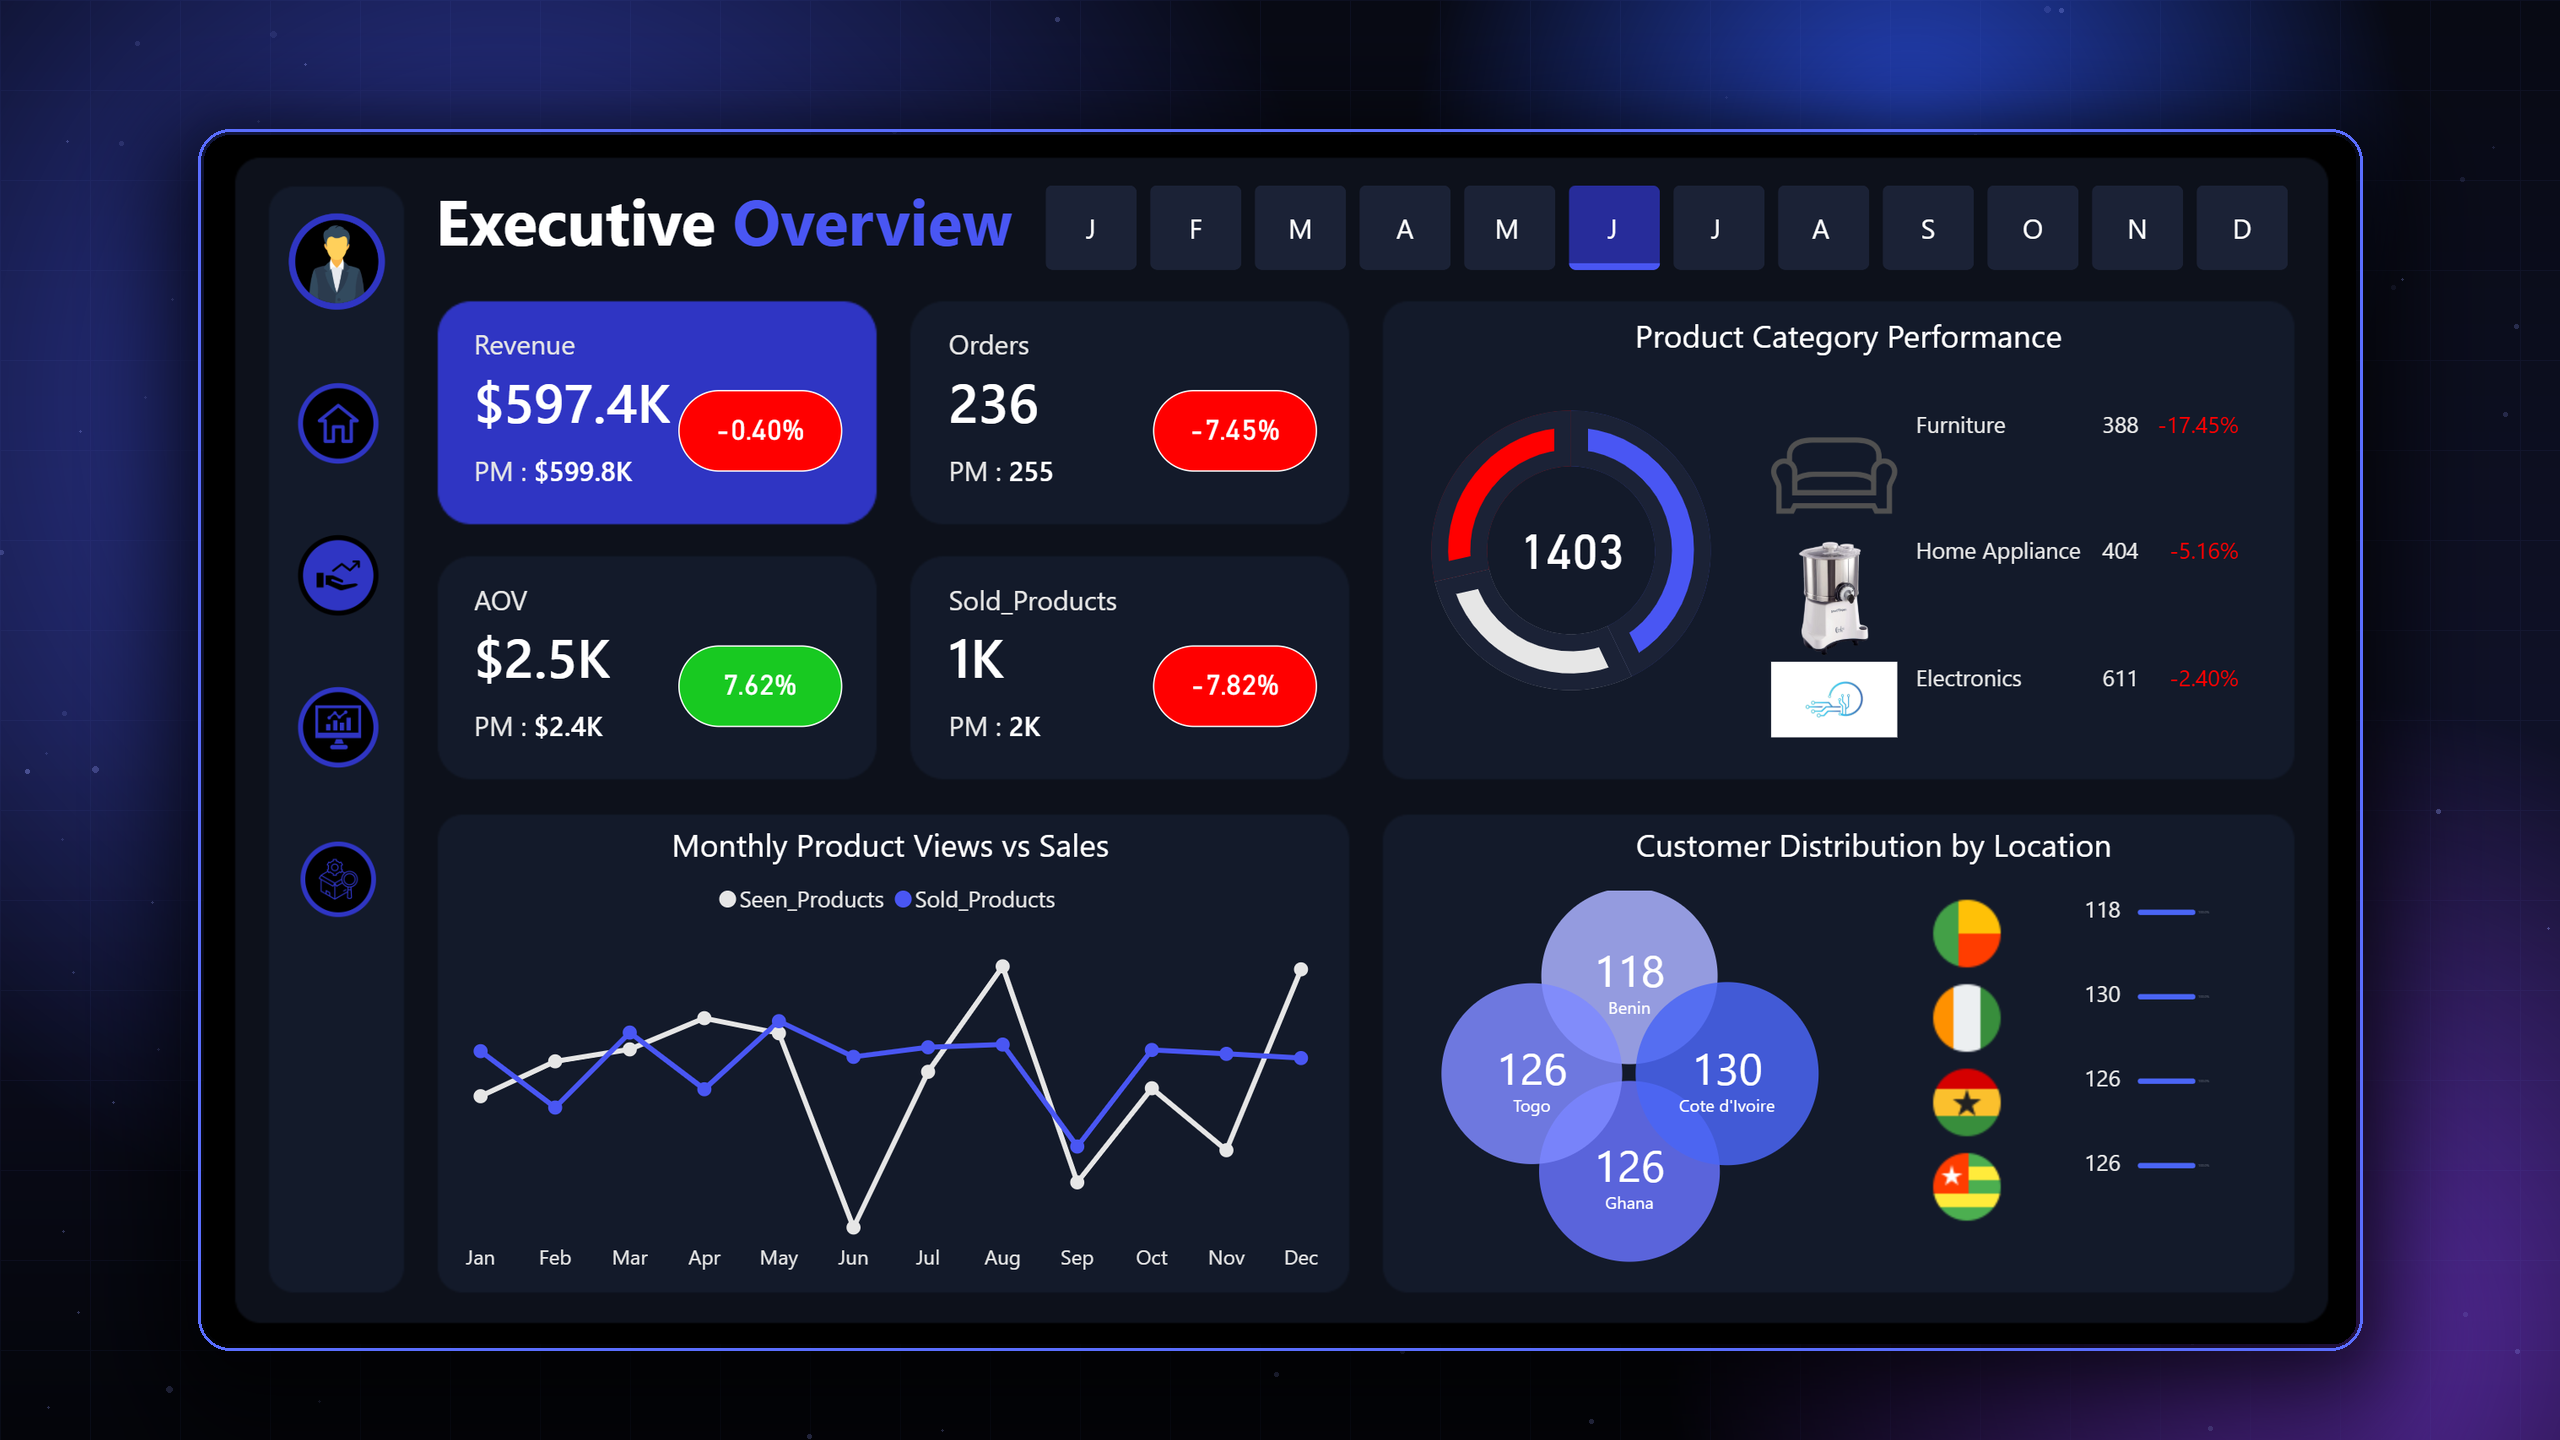

The dashboard page shown, as its layout file describes it:
{"tool":"powerbi","page":{"name":"Executive Overview","canvas":[1280,720],"ordinal":1},"visuals":[{"type":"advancedSlicerVisual","fields":{"Values":["Dim_Calendar.Month Initial"]},"box":[495,26.7,755,60],"z":0},{"type":"cardVisual","fields":{"Data":["DAX.Revenue"]},"box":[132.9,100,300,154.3],"z":1000},{"type":"card","fields":{"Values":["DAX.Revenue_G%"]},"box":[282.9,152.9,97.1,48.6],"z":2000},{"type":"cardVisual","fields":{"Data":["DAX.Orders"]},"box":[414.3,100,300,154.3],"z":3000},{"type":"card","fields":{"Values":["DAX.Orders_G%"]},"box":[564.3,152.9,97.1,48.6],"z":4000},{"type":"cardVisual","fields":{"Data":["DAX.AOV"]},"box":[132.9,251,300,154.3],"z":5000},{"type":"card","fields":{"Values":["DAX.AOV_G%"]},"box":[282.9,304.3,97.1,48.6],"z":6000},{"type":"cardVisual","fields":{"Data":["DAX.Sold_Products"]},"box":[414.3,251.4,300,154.3],"z":7000},{"type":"card","fields":{"Values":["DAX.Sold_Products_G%"]},"box":[564.3,304.3,97.1,48.6],"z":8000},{"type":"lineChart","title":"Monthly Product Views vs Sales","fields":{"Y":["DAX.Seen_Products","DAX.Sold_Products"],"Category":["Dim_Calendar.Month"]},"box":[142.9,408.6,531.4,275.7],"z":9000},{"type":"tableEx","fields":{"Values":["Dim_Product.Product Img","Dim_Product.Category","DAX.Sold_Products","DAX.Sold_Products_G%"]},"box":[918.6,135.7,315.7,260],"z":10000},{"type":"donutChart","fields":{"Category":["Dim_Product.Category"],"Y":["CountNonNull(Dim_Product.ProductID)"]},"box":[695.7,138.6,230,217.1],"z":11000},{"type":"card","fields":{"Values":["DAX.Sold_Products"]},"box":[757.1,212.9,108.6,67.1],"z":12000},{"type":"textbox","box":[838.6,103,274.3,38.6],"z":13000},{"type":"htmlContent443BE3AD55E043BF878BED274D3A6855","fields":{"content":["DAX.CustomerBubbles"]},"box":[695.7,443.2,299.1,277.2],"z":14000},{"type":"tableEx","fields":{"Values":["Dim_Customer.Country Flag","DAX.Customers","DAX.Rounded Bar Chart"]},"box":[1010,421.3,223.7,279.9],"z":15000},{"type":"textbox","box":[838.6,404,304.3,38.6],"z":16000},{"type":"textbox","box":[133.3,21.7,361.7,68.3],"z":17000},{"type":"image","box":[45.2,41.7,70.2,70.2],"z":19000},{"type":"image","box":[51.2,322.9,59.5,59.5],"z":21000},{"type":"image","box":[51.2,232.7,59.5,59.5],"z":23000},{"type":"image","box":[51.2,413.1,59.5,59.5],"z":24000},{"type":"image","box":[51.2,142.6,59.5,59.5],"z":27000}]}

Visuals, with their boxes in screenshot pixels (x1, y1, x2, y2), scaled from the page's 1280x720 canvas onto the 2560x1440 screenshot:
advancedSlicerVisual - Dim_Calendar.Month Initial: crop(990, 53, 2500, 173)
cardVisual - DAX.Revenue: crop(266, 200, 866, 509)
card - DAX.Revenue_G%: crop(566, 306, 760, 403)
cardVisual - DAX.Orders: crop(829, 200, 1429, 509)
card - DAX.Orders_G%: crop(1129, 306, 1323, 403)
cardVisual - DAX.AOV: crop(266, 502, 866, 811)
card - DAX.AOV_G%: crop(566, 609, 760, 706)
cardVisual - DAX.Sold_Products: crop(829, 503, 1429, 811)
card - DAX.Sold_Products_G%: crop(1129, 609, 1323, 706)
"Monthly Product Views vs Sales" lineChart: crop(286, 817, 1349, 1369)
tableEx - Dim_Product.Product Img x Dim_Product.Category: crop(1837, 271, 2469, 791)
donutChart - Dim_Product.Category x CountNonNull(Dim_Product.ProductID): crop(1391, 277, 1851, 711)
card - DAX.Sold_Products: crop(1514, 426, 1731, 560)
textbox: crop(1677, 206, 2226, 283)
htmlContent443BE3AD55E043BF878BED274D3A6855 - DAX.CustomerBubbles: crop(1391, 886, 1990, 1439)
tableEx - Dim_Customer.Country Flag x DAX.Customers: crop(2020, 843, 2467, 1402)
textbox: crop(1677, 808, 2286, 885)
textbox: crop(267, 43, 990, 180)
image: crop(90, 83, 231, 224)
image: crop(102, 646, 221, 765)
image: crop(102, 465, 221, 584)
image: crop(102, 826, 221, 945)
image: crop(102, 285, 221, 404)
